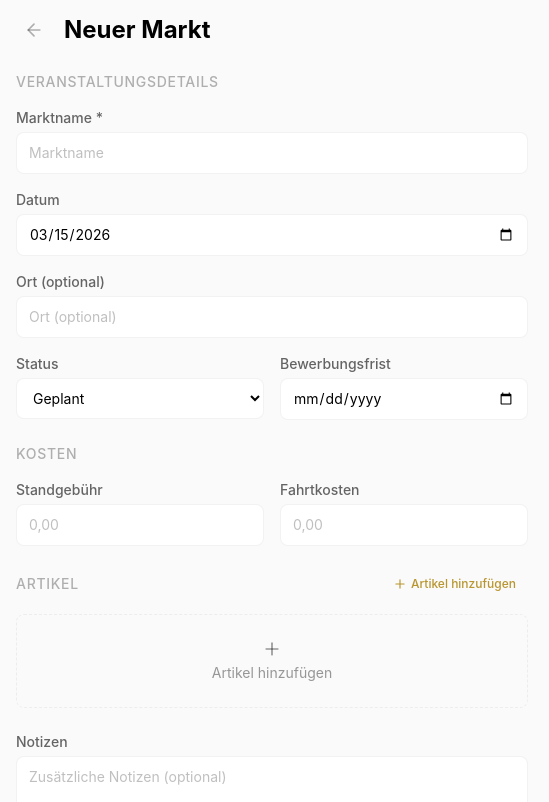
Scenario: markets/new — Markt anlegen › nimmt Schnellverkaufs-Artikel auf
Expected: the heading "Neuer Markt" is shown, [64, 14, 210, 46]
Step 1. Click the 1st button "Artikel hinzufügen" → [454, 584], box [381, 570, 528, 598]
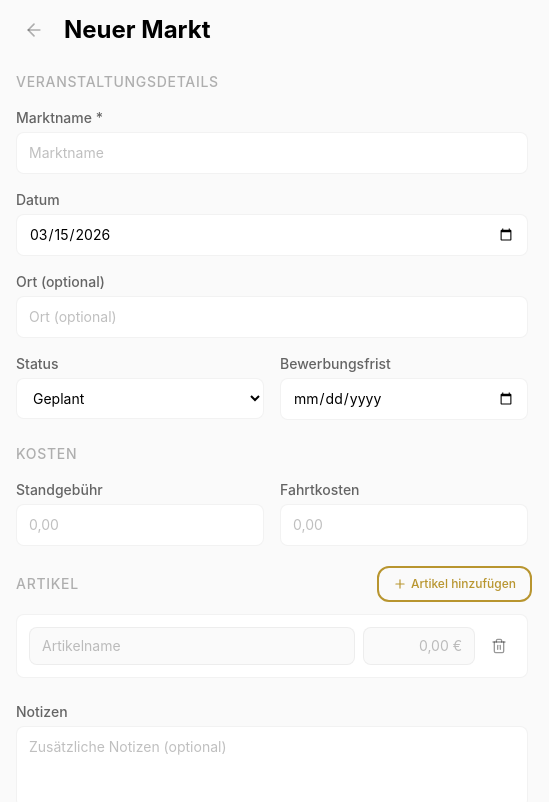
Now the field with placeholder "Artikelname" is shown, box [29, 627, 355, 665]
Now the field with placeholder "0,00 €" is shown, box [363, 627, 475, 665]
